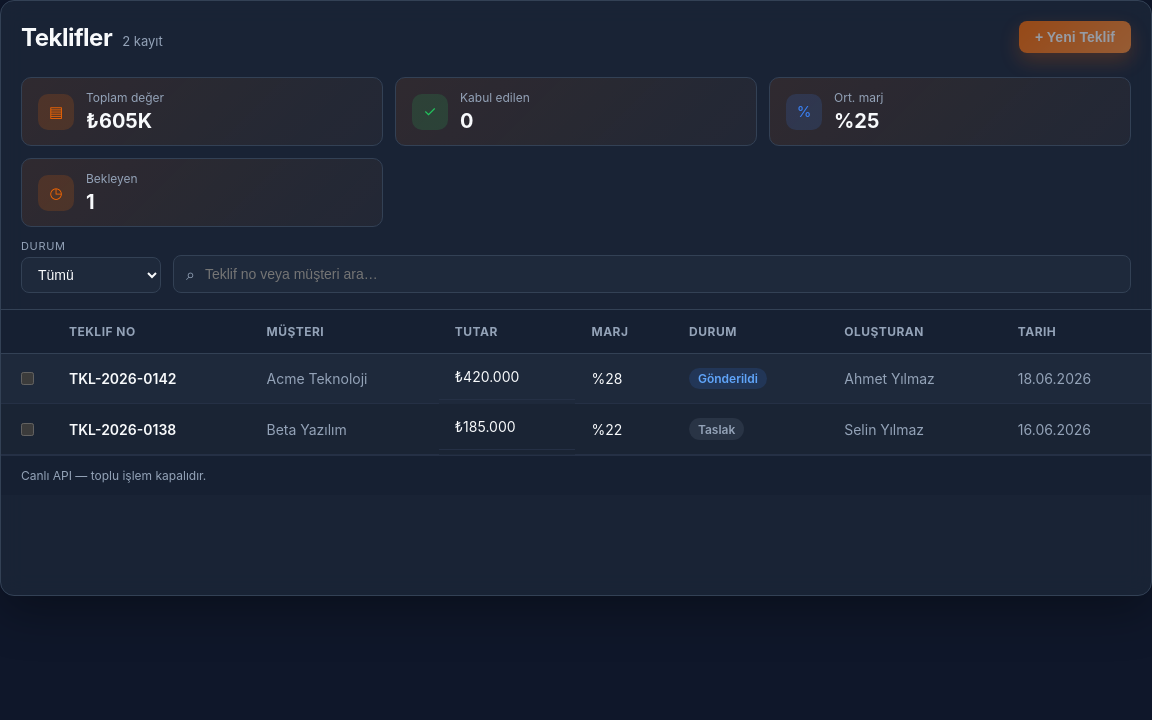
Test: QuoteListView › filters quotes by search query
Expected: the text "Acme Teknoloji" is shown, [250,354,439,404]
Type "Beta" into the search field named "Teklif ara". click: (660, 274)
box: [203,265,1118,283]
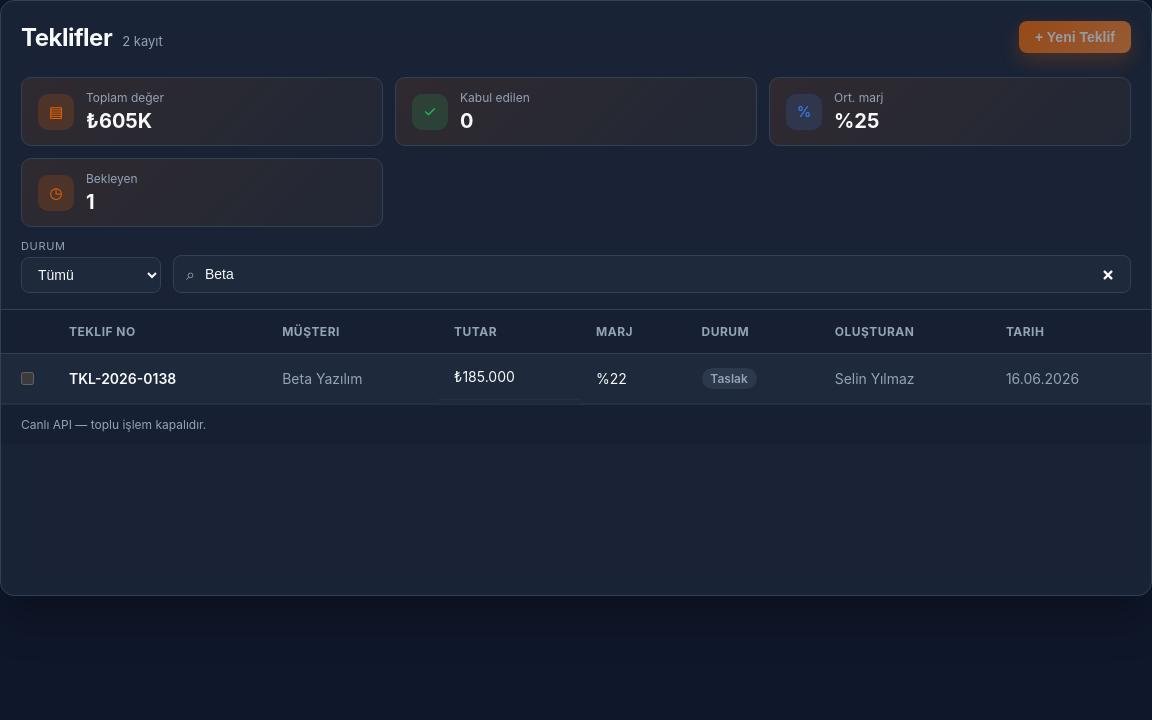
Expected: the text "Beta Yazılım" is shown, [266,354,438,404]
Now the text "Acme Teknoloji" is gone
